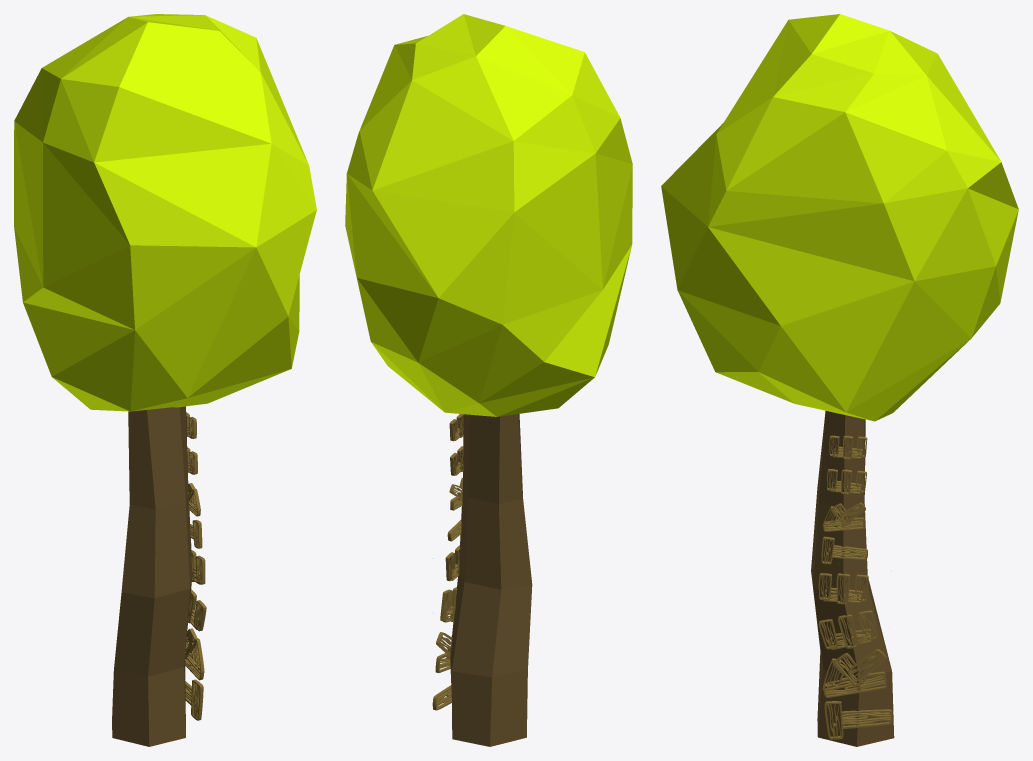
The model's file is typetree2.fbx.
3 renders of one model, left to right at view 1: azimuth 30°, elevation 25°; view 2: azimuth 150°, elevation 25°; view 3: azimuth 270°, elevation 25°, orthographic. The views are drawn at different scales.
Parts seen in each view (by area): view 1: pCube3, pCylinder12, polySurface51, polySurface50, polySurface52; view 2: pCube3, pCylinder12, polySurface51, polySurface52; view 3: pCube3, pCylinder12, polySurface51, polySurface52, polySurface50, polySurface53, polySurface55, polySurface56, polySurface57, polySurface54.
Boxes of the visible parts, left/top/right/bottom form: pCube3: left=14, top=14, right=316, bottom=411; pCylinder12: left=112, top=406, right=192, bottom=746; polySurface51: left=185, top=628, right=204, bottom=680; polySurface50: left=185, top=679, right=203, bottom=720; polySurface52: left=188, top=589, right=206, bottom=631; pCube3: left=345, top=14, right=632, bottom=416; pCylinder12: left=450, top=414, right=532, bottom=746; polySurface51: left=435, top=632, right=452, bottom=672; polySurface52: left=440, top=587, right=457, bottom=622; pCube3: left=661, top=14, right=1018, bottom=421; pCylinder12: left=811, top=411, right=894, bottom=746; polySurface51: left=822, top=649, right=886, bottom=697; polySurface52: left=818, top=610, right=877, bottom=649; polySurface50: left=824, top=701, right=892, bottom=739; polySurface53: left=818, top=573, right=868, bottom=604; polySurface55: left=822, top=502, right=865, bottom=531; polySurface56: left=827, top=469, right=866, bottom=494; polySurface57: left=829, top=435, right=867, bottom=459; polySurface54: left=821, top=536, right=867, bottom=564.
Bounding box in the file's own units: 187 × 554 × 253.
